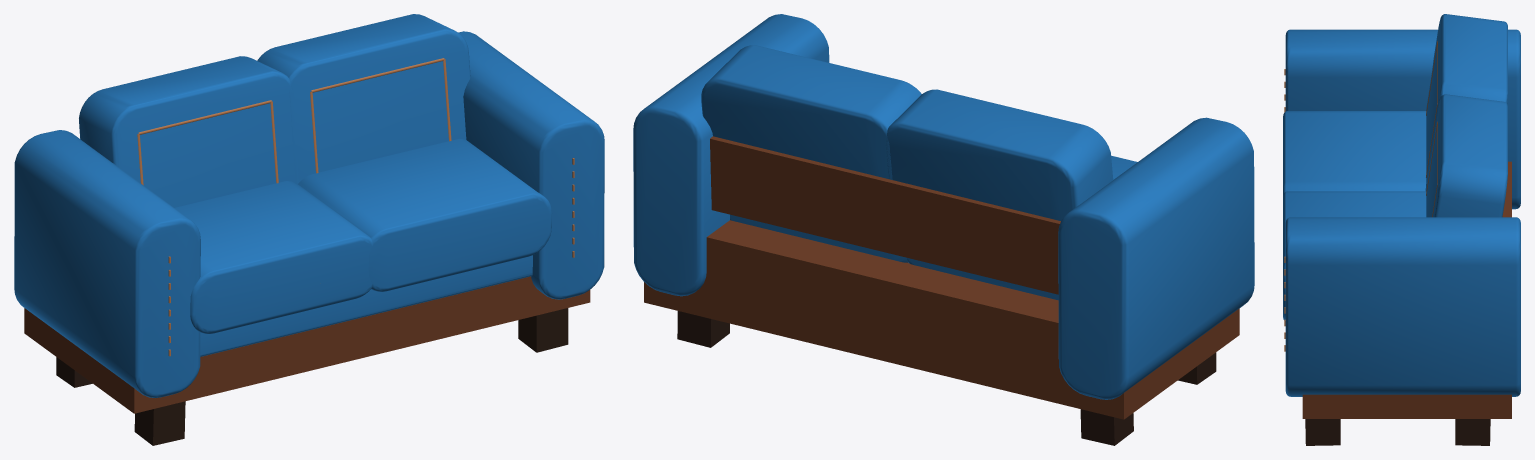
File: cognac-leather-sofa-two-seats.glb
The picture shows the model from 3 angles, left to right: view 1: azimuth 30°, elevation 25°; view 2: azimuth 150°, elevation 25°; view 3: azimuth 270°, elevation 25°; orthographic projection. The views are drawn at different scales.
Parts seen in each view (by area): view 1: sofa-part-28, seat-cushion-1-part-0, back-cushion-2-part-0, back-cushion-1-part-0, seat-cushion-2-part-0, sofa-part-7, sofa-part-4, sofa-part-5, sofa-part-0, sofa-part-2; view 2: sofa-part-4, sofa-part-28, sofa-part-6, back-cushion-2-part-0, back-cushion-1-part-0, sofa-part-7, sofa-part-3, sofa-part-1, seat-cushion-2-part-0, seat-cushion-1-part-0; view 3: sofa-part-7, sofa-part-28, seat-cushion-2-part-0, back-cushion-1-part-0, back-cushion-2-part-0, sofa-part-4, seat-cushion-1-part-0, sofa-part-0, sofa-part-1.
Part boxes in pixels (left/top/right/bottom): sofa-part-28: left=14, top=130, right=200, bottom=397; seat-cushion-1-part-0: left=298, top=139, right=551, bottom=291; back-cushion-2-part-0: left=79, top=56, right=298, bottom=207; back-cushion-1-part-0: left=257, top=14, right=470, bottom=183; seat-cushion-2-part-0: left=175, top=181, right=375, bottom=334; sofa-part-7: left=458, top=31, right=604, bottom=299; sofa-part-4: left=24, top=276, right=590, bottom=413; sofa-part-5: left=200, top=255, right=532, bottom=356; sofa-part-0: left=518, top=308, right=568, bottom=352; sofa-part-2: left=134, top=401, right=185, bottom=445; sofa-part-4: left=644, top=220, right=1239, bottom=419; sofa-part-28: left=1058, top=117, right=1254, bottom=399; sofa-part-6: left=710, top=136, right=1060, bottom=294; back-cushion-2-part-0: left=886, top=89, right=1113, bottom=220; back-cushion-1-part-0: left=701, top=45, right=921, bottom=179; sofa-part-7: left=633, top=14, right=829, bottom=296; sofa-part-3: left=1080, top=409, right=1133, bottom=445; sofa-part-1: left=677, top=311, right=729, bottom=347; seat-cushion-2-part-0: left=907, top=155, right=1137, bottom=300; seat-cushion-1-part-0: left=730, top=214, right=907, bottom=262; sofa-part-7: left=1285, top=217, right=1520, bottom=396; sofa-part-28: left=1285, top=29, right=1520, bottom=209; seat-cushion-2-part-0: left=1283, top=111, right=1426, bottom=195; back-cushion-1-part-0: left=1425, top=94, right=1507, bottom=217; back-cushion-2-part-0: left=1425, top=14, right=1507, bottom=189; sofa-part-4: left=1302, top=161, right=1511, bottom=418; seat-cushion-1-part-0: left=1283, top=191, right=1426, bottom=320; sofa-part-0: left=1305, top=419, right=1340, bottom=445; sofa-part-1: left=1455, top=419, right=1490, bottom=445.
Bounding box in the file's own units: 1.93 × 1.08 × 0.886.
